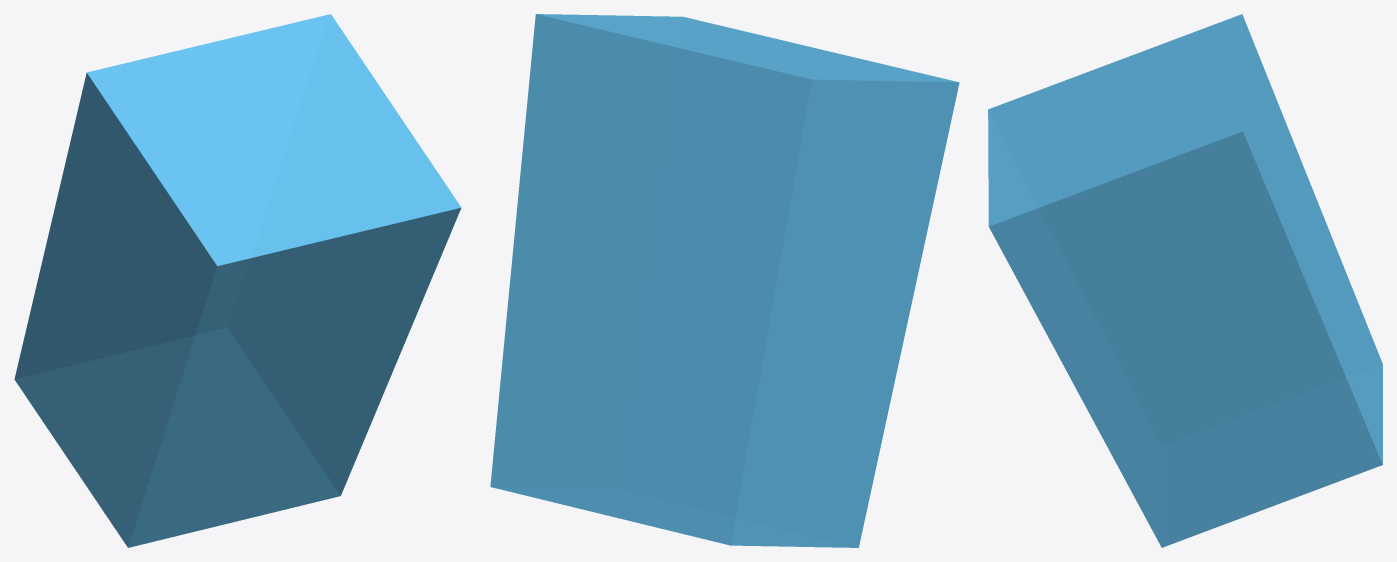
Rendered from Event_421278790_HBrechit_15.fbx.
The picture shows the model from 3 angles, left to right: view 1: azimuth 30°, elevation 25°; view 2: azimuth 150°, elevation 25°; view 3: azimuth 270°, elevation 25°; orthographic projection. The views are drawn at different scales.
Visible parts, largest first — view 1: Model; view 2: Model; view 3: Model.
Part boxes in pixels (x1,y1,x2,y2): Model: [14, 14, 461, 547]; Model: [490, 14, 959, 547]; Model: [988, 14, 1382, 547].
Bounding box in the file's own units: 0.461 × 0.802 × 0.6627.
